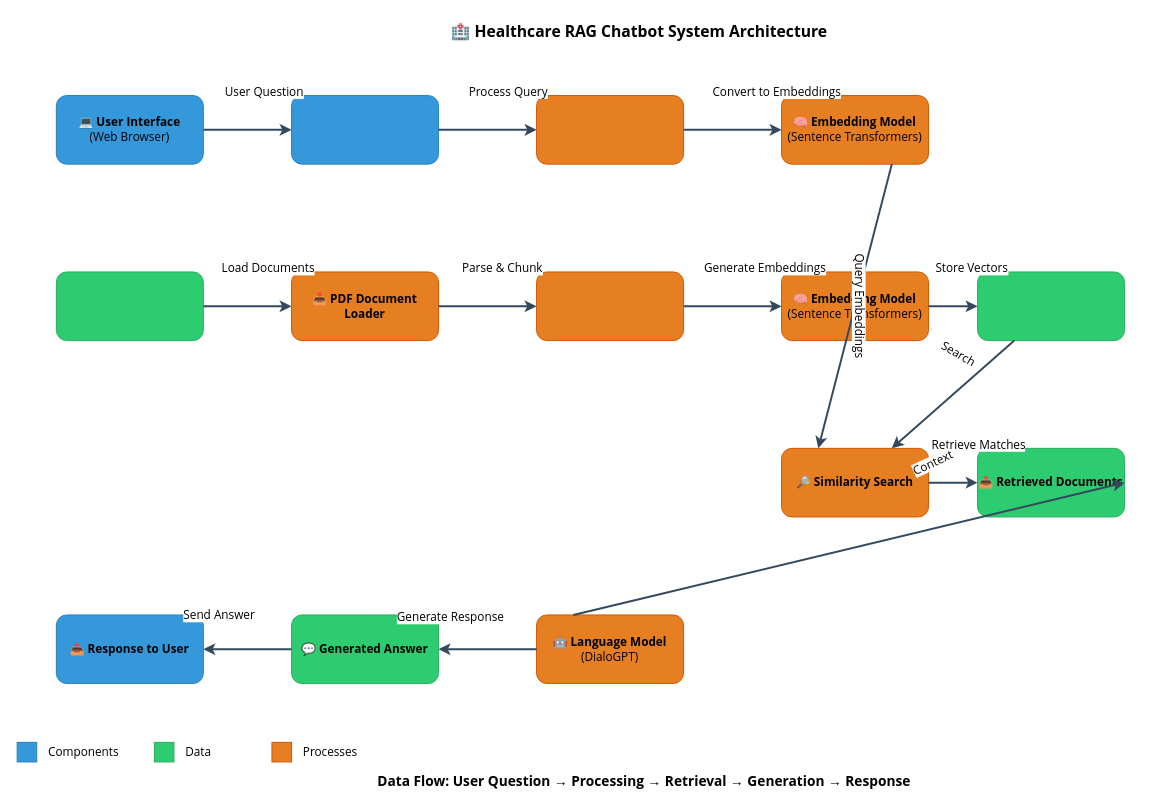
The diagram is 1151 pixels wide and 808 high, and some of its shapes have lost their labels. The shapes that lost their labels are listed below. From the top down, each one's box as (x1, y1, x2, y2) in pixels, then its label:
(291, 95, 439, 164): 🌐 Flask Web Server
(536, 95, 684, 164): 🔍 Query Processing
(55, 271, 203, 341): 📄 Healthcare PDF Documents
(536, 271, 684, 341): ✂️ Text Chunking
(977, 271, 1125, 341): 🗃️ FAISS Vector Store
